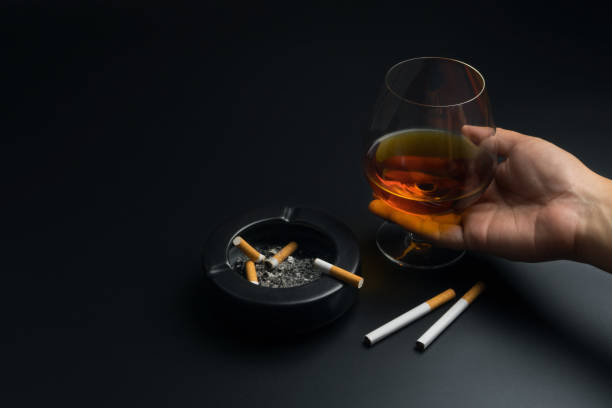alcohol: (373, 58, 501, 274)
cigarette: (363, 286, 456, 346), (414, 284, 481, 351), (311, 258, 366, 289), (263, 240, 299, 270), (234, 235, 266, 265), (245, 260, 262, 287)
